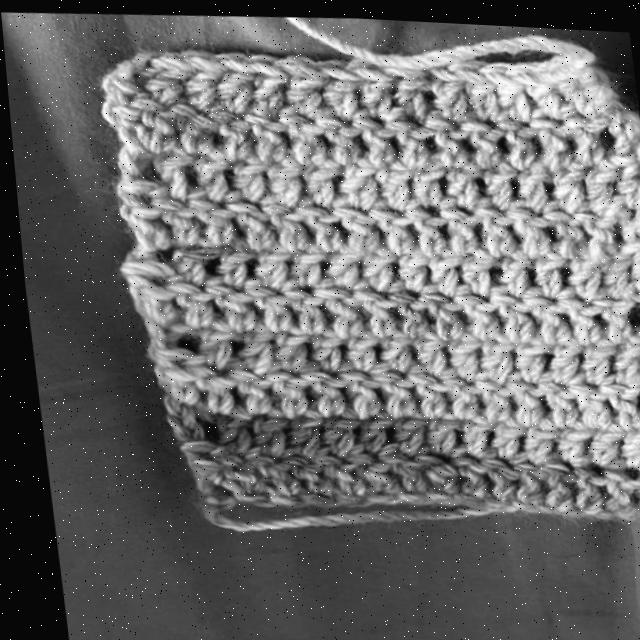ch: (390, 485, 426, 501), (472, 491, 506, 507), (325, 488, 358, 502), (413, 488, 451, 499), (505, 495, 543, 506), (288, 490, 326, 501), (228, 491, 263, 502), (445, 490, 477, 502), (355, 490, 391, 499), (262, 492, 294, 502)
dc: (532, 51, 607, 108), (499, 54, 570, 113), (475, 54, 532, 115), (443, 53, 494, 119), (400, 148, 446, 217), (342, 55, 392, 118), (122, 261, 171, 324), (274, 52, 324, 111), (379, 63, 429, 121), (325, 152, 371, 214), (304, 281, 356, 335), (255, 149, 301, 210), (585, 452, 631, 512), (314, 56, 362, 113), (244, 50, 283, 120), (211, 49, 252, 115), (156, 394, 204, 450), (464, 203, 511, 259), (218, 149, 262, 208), (386, 117, 436, 168), (143, 153, 192, 205), (331, 448, 392, 489), (126, 99, 175, 150), (590, 375, 638, 427), (159, 245, 212, 292), (183, 456, 231, 507), (164, 102, 212, 153), (277, 110, 324, 162), (143, 49, 188, 103), (197, 246, 248, 293), (460, 370, 502, 426), (181, 155, 228, 205), (171, 326, 231, 365), (516, 291, 564, 339), (367, 404, 416, 451), (113, 145, 153, 202), (182, 47, 218, 110), (301, 407, 349, 454), (273, 248, 320, 296), (441, 153, 484, 205), (540, 155, 582, 208), (571, 157, 612, 211), (478, 156, 522, 206), (491, 115, 533, 167), (295, 155, 333, 212), (550, 293, 597, 339), (486, 291, 531, 339), (455, 119, 500, 167), (236, 404, 277, 456), (313, 113, 358, 160), (339, 403, 382, 452), (530, 447, 566, 505), (449, 241, 486, 297), (323, 367, 369, 412), (291, 325, 337, 370), (413, 250, 459, 295), (470, 442, 508, 496), (558, 337, 608, 378), (559, 110, 600, 160), (482, 249, 527, 294), (239, 249, 286, 292), (427, 374, 475, 416), (274, 406, 315, 455), (304, 451, 354, 491), (425, 62, 462, 116), (555, 455, 594, 506), (373, 443, 418, 487), (516, 250, 560, 295), (527, 112, 563, 167), (510, 211, 556, 254), (119, 205, 165, 248), (269, 453, 321, 491), (391, 371, 438, 413), (380, 250, 422, 297), (363, 363, 404, 411), (527, 374, 568, 422), (587, 292, 628, 340), (441, 439, 478, 492), (603, 106, 640, 159), (605, 157, 640, 213), (240, 453, 290, 492), (243, 112, 282, 162), (559, 377, 603, 421), (289, 368, 334, 411), (188, 205, 233, 248), (245, 289, 291, 331), (256, 368, 297, 415), (164, 290, 212, 330), (206, 451, 255, 490), (221, 366, 264, 410), (448, 291, 492, 334), (596, 332, 638, 377), (347, 242, 389, 287), (548, 252, 594, 293), (204, 404, 242, 453), (467, 334, 510, 377), (432, 333, 473, 378), (185, 366, 225, 412), (498, 366, 532, 420), (362, 326, 403, 370), (229, 206, 269, 251), (310, 247, 356, 286), (516, 406, 549, 460), (579, 211, 612, 265), (425, 118, 466, 161), (435, 203, 473, 249), (411, 444, 448, 491), (223, 330, 265, 371), (399, 328, 438, 372), (204, 290, 248, 329), (501, 446, 535, 496), (335, 209, 375, 251), (262, 327, 301, 370), (581, 411, 616, 458), (532, 337, 573, 377), (366, 165, 406, 206), (514, 156, 546, 207), (149, 358, 187, 399), (140, 321, 178, 362), (550, 413, 585, 457), (407, 209, 441, 254), (214, 115, 248, 159), (330, 333, 369, 371), (158, 203, 194, 244), (391, 294, 426, 336), (354, 296, 391, 335), (586, 254, 623, 293), (265, 208, 300, 249), (612, 201, 640, 252), (417, 405, 450, 448), (375, 211, 409, 252), (424, 293, 457, 335), (547, 214, 577, 260), (506, 337, 539, 377), (612, 414, 640, 461), (301, 209, 335, 247), (359, 122, 389, 165), (482, 411, 514, 451), (284, 293, 318, 330), (615, 245, 640, 285), (621, 287, 640, 338), (454, 415, 480, 451), (627, 451, 640, 508), (621, 352, 640, 383)
